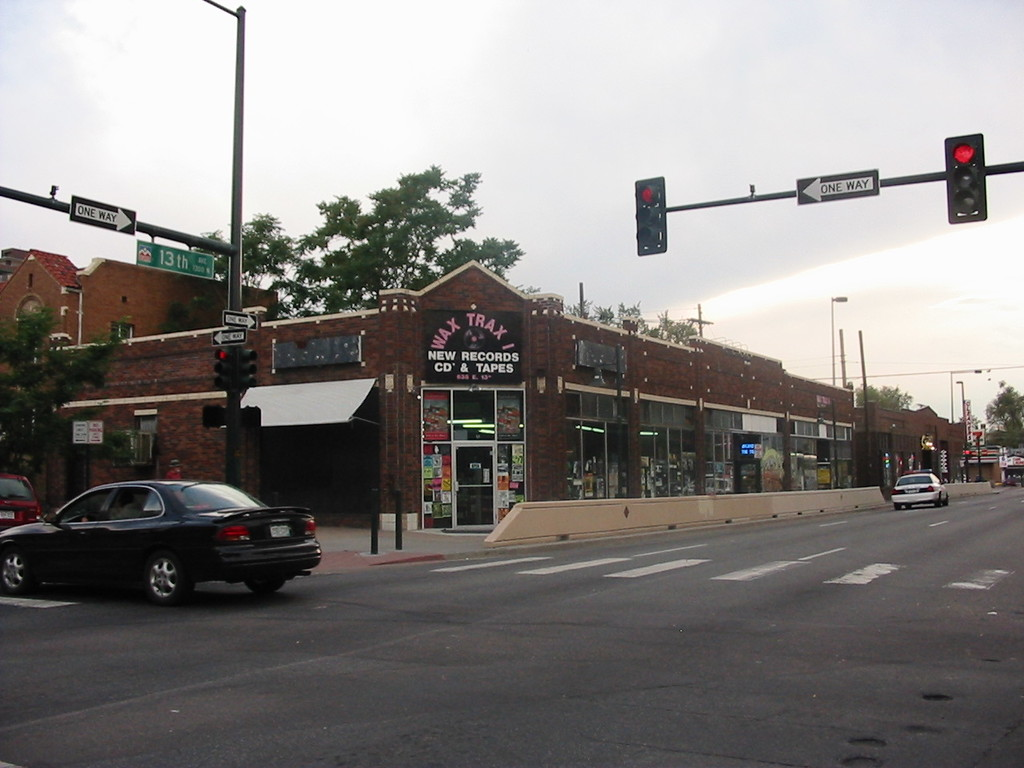red_light: (946, 139, 986, 221), (636, 182, 662, 248)
